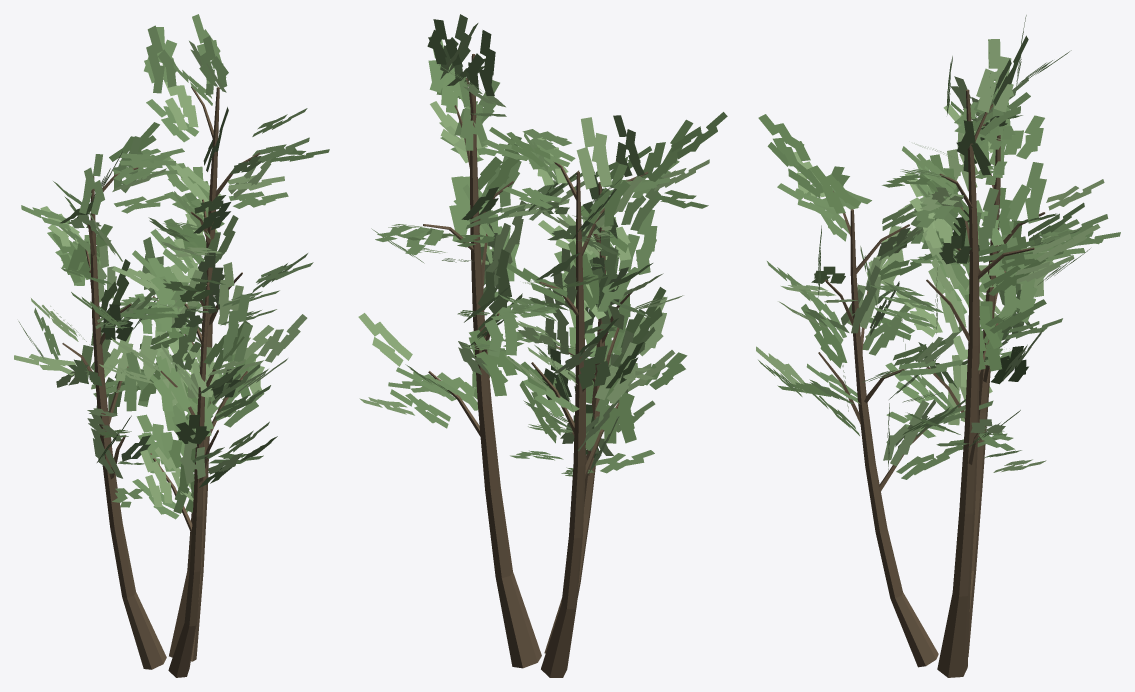
The model's file is garden_tree.glb.
The picture shows the model from 3 angles, left to right: view 1: azimuth 30°, elevation 25°; view 2: azimuth 150°, elevation 25°; view 3: azimuth 270°, elevation 25°; orthographic projection. The views are drawn at different scales.
Visible parts, largest first — view 1: GardenTree; view 2: GardenTree; view 3: GardenTree.
Part boxes in pixels (x1,y1,x2,y2): GardenTree: [14, 14, 329, 677]; GardenTree: [358, 14, 727, 677]; GardenTree: [756, 15, 1120, 677].
Bounding box in the file's own units: 1.45 × 3 × 1.5.
